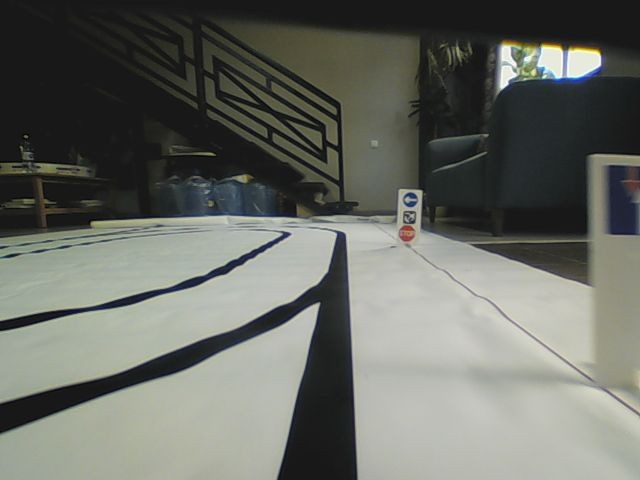Stop: (398, 224, 416, 241)
